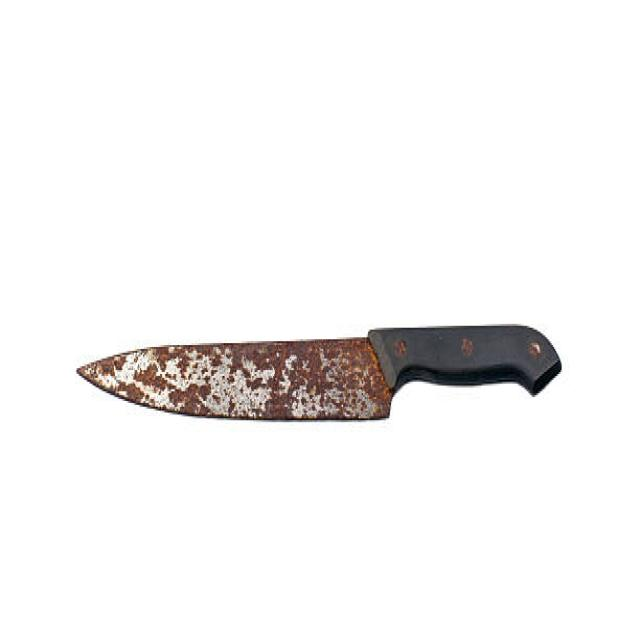knife: (70, 323, 563, 435)
